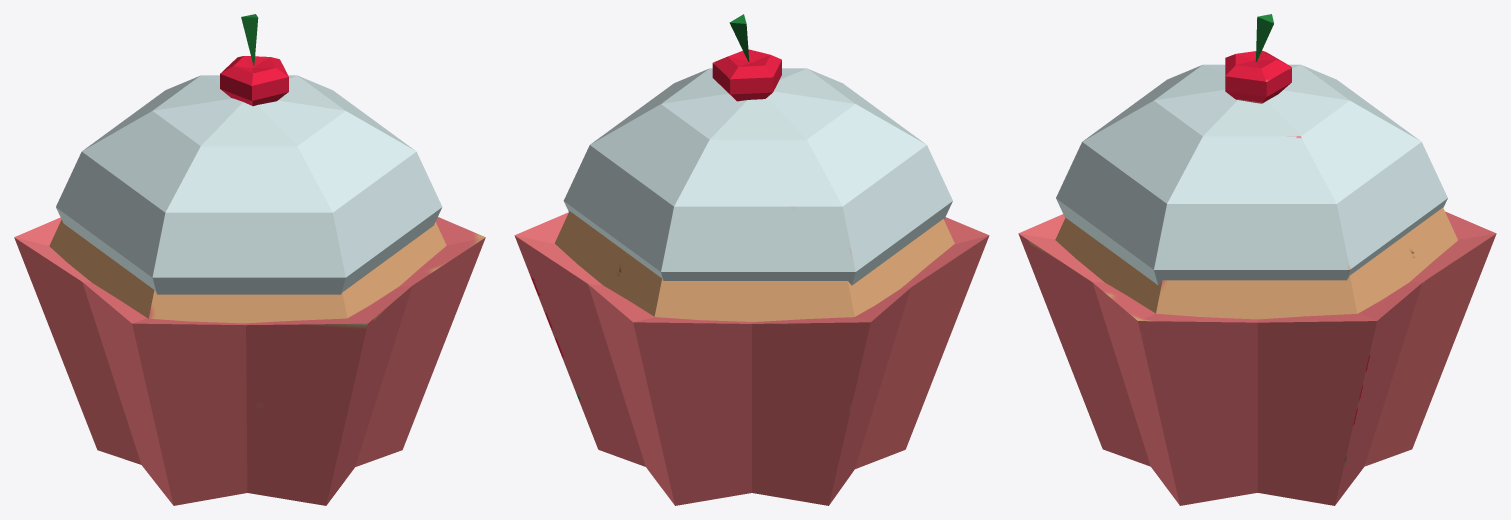
The model's file is Cupcake_3.fbx.
3 views of the same model, side by side, from view 1: azimuth 30°, elevation 25°; view 2: azimuth 150°, elevation 25°; view 3: azimuth 270°, elevation 25° (orthographic).
Parts seen in each view (by area): view 1: Cupcake three; view 2: Cupcake three; view 3: Cupcake three.
Part boxes in pixels (x1,y1,x2,y2): Cupcake three: (14, 14, 485, 505); Cupcake three: (514, 14, 989, 505); Cupcake three: (1018, 14, 1496, 505).
Size of the model in its own units: 150 by 174 by 173.
